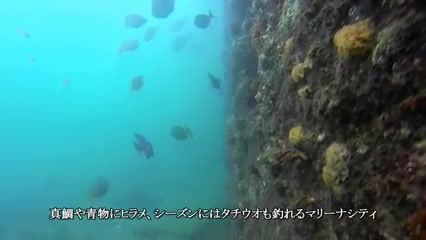smallfish: (166, 118, 199, 144)
